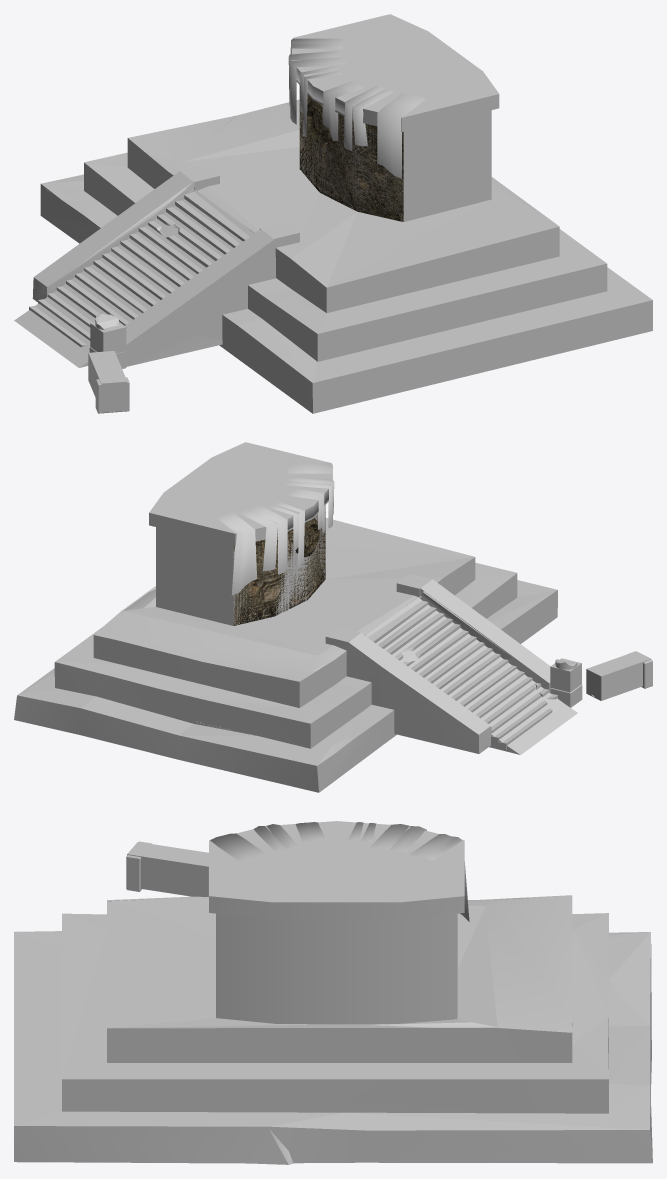
Rendered from shrine_stage.DAE.
3 renders of one model, top to bottom at view 1: azimuth 30°, elevation 25°; view 2: azimuth 150°, elevation 25°; view 3: azimuth 270°, elevation 25°, orthographic. The views are drawn at different scales.
Visible parts, largest first — view 1: shrinebase400, col-3, col-1, col-4, col-5, col-2, col-6; view 2: shrinebase400, col-3, col-1, col-4, col-5, col-2, col-6; view 3: shrinebase400, col-1, col-3, col-4, col-2, col-6.
Part boxes in pixels (bbox=[...]): shrinebase400: bbox=[29, 38, 607, 413]; col-3: bbox=[127, 99, 559, 312]; col-1: bbox=[40, 174, 652, 413]; col-4: bbox=[291, 14, 499, 221]; col-5: bbox=[14, 165, 299, 367]; col-2: bbox=[84, 152, 607, 361]; col-6: bbox=[88, 322, 127, 411]; shrinebase400: bbox=[97, 463, 652, 764]; col-3: bbox=[93, 518, 475, 707]; col-1: bbox=[14, 580, 557, 792]; col-4: bbox=[149, 442, 332, 624]; col-5: bbox=[325, 574, 577, 754]; col-2: bbox=[54, 562, 517, 748]; col-6: bbox=[550, 651, 651, 700]; shrinebase400: bbox=[18, 822, 652, 1164]; col-1: bbox=[14, 931, 652, 1163]; col-3: bbox=[107, 895, 572, 1062]; col-4: bbox=[209, 821, 464, 1024]; col-2: bbox=[62, 913, 608, 1113]; col-6: bbox=[127, 842, 208, 896].
Size of the model in its own units: 23.89 by 22.32 by 8.84.
